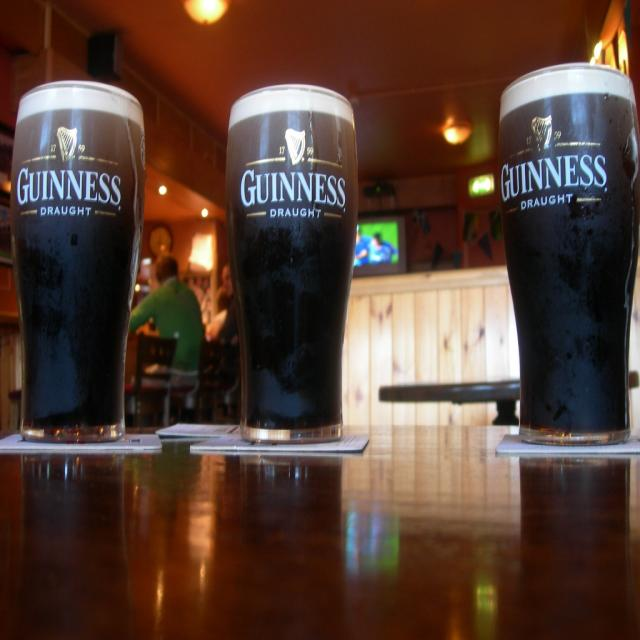guiness: (499, 113, 612, 204), (16, 123, 125, 209), (239, 126, 349, 210)
